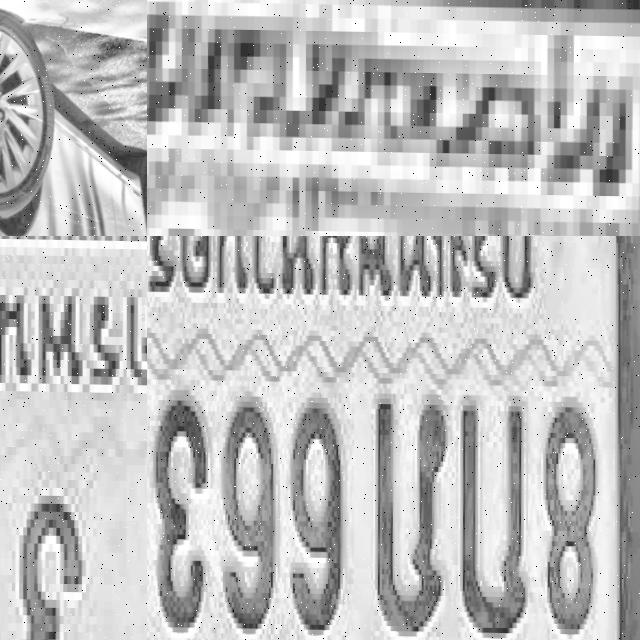license-plate: (147, 236, 640, 640), (147, 0, 640, 236), (0, 236, 147, 640)
